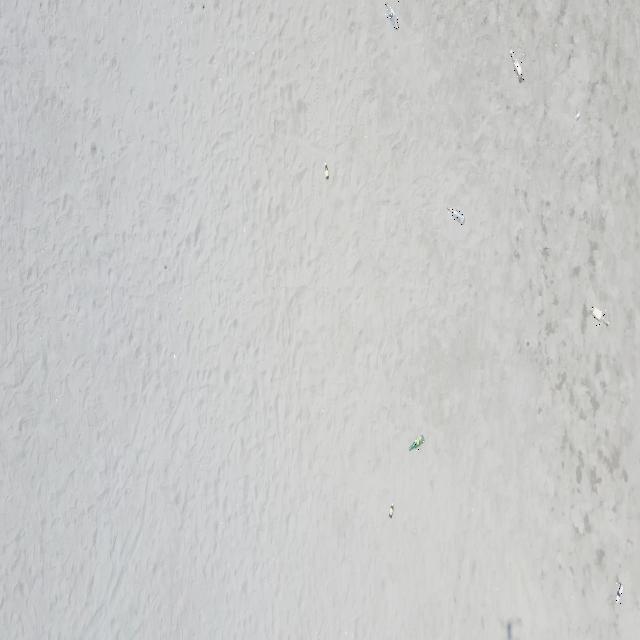glass: (588, 304, 608, 326), (510, 49, 524, 80), (385, 1, 399, 30), (448, 205, 464, 225), (408, 434, 425, 451), (614, 582, 622, 604), (388, 502, 394, 520), (324, 162, 329, 179), (575, 110, 581, 121)
